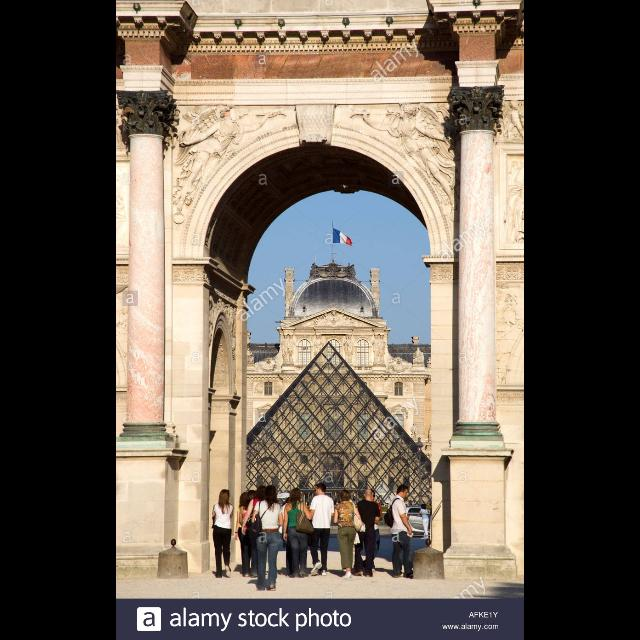head: (247, 490, 260, 504), (398, 484, 409, 500), (240, 492, 252, 506), (265, 486, 277, 500), (257, 486, 269, 498), (315, 484, 327, 496), (292, 488, 302, 502), (220, 490, 230, 502), (369, 488, 377, 502), (364, 488, 374, 499), (341, 490, 351, 500), (422, 503, 428, 509)
person: (250, 484, 286, 592), (386, 483, 424, 579), (241, 484, 273, 578), (333, 488, 365, 580), (284, 487, 314, 579), (353, 488, 382, 578), (309, 482, 336, 578), (210, 488, 236, 580), (359, 488, 385, 576), (238, 489, 262, 576), (233, 489, 254, 577), (419, 502, 431, 540)
